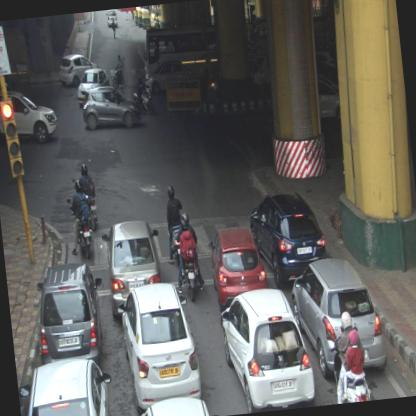bus: (140, 22, 220, 96)
car: (216, 284, 315, 414), (288, 252, 388, 379), (115, 276, 205, 412), (246, 187, 330, 290), (30, 261, 109, 364), (100, 217, 168, 318), (16, 354, 117, 415), (206, 223, 269, 308), (0, 82, 59, 146), (78, 82, 142, 132), (57, 50, 99, 88), (74, 66, 111, 108), (104, 8, 118, 30)
motorcycle: (323, 308, 372, 404), (168, 211, 206, 302), (160, 182, 188, 264), (65, 176, 93, 258), (77, 159, 100, 234), (132, 74, 156, 116), (108, 53, 132, 91)
